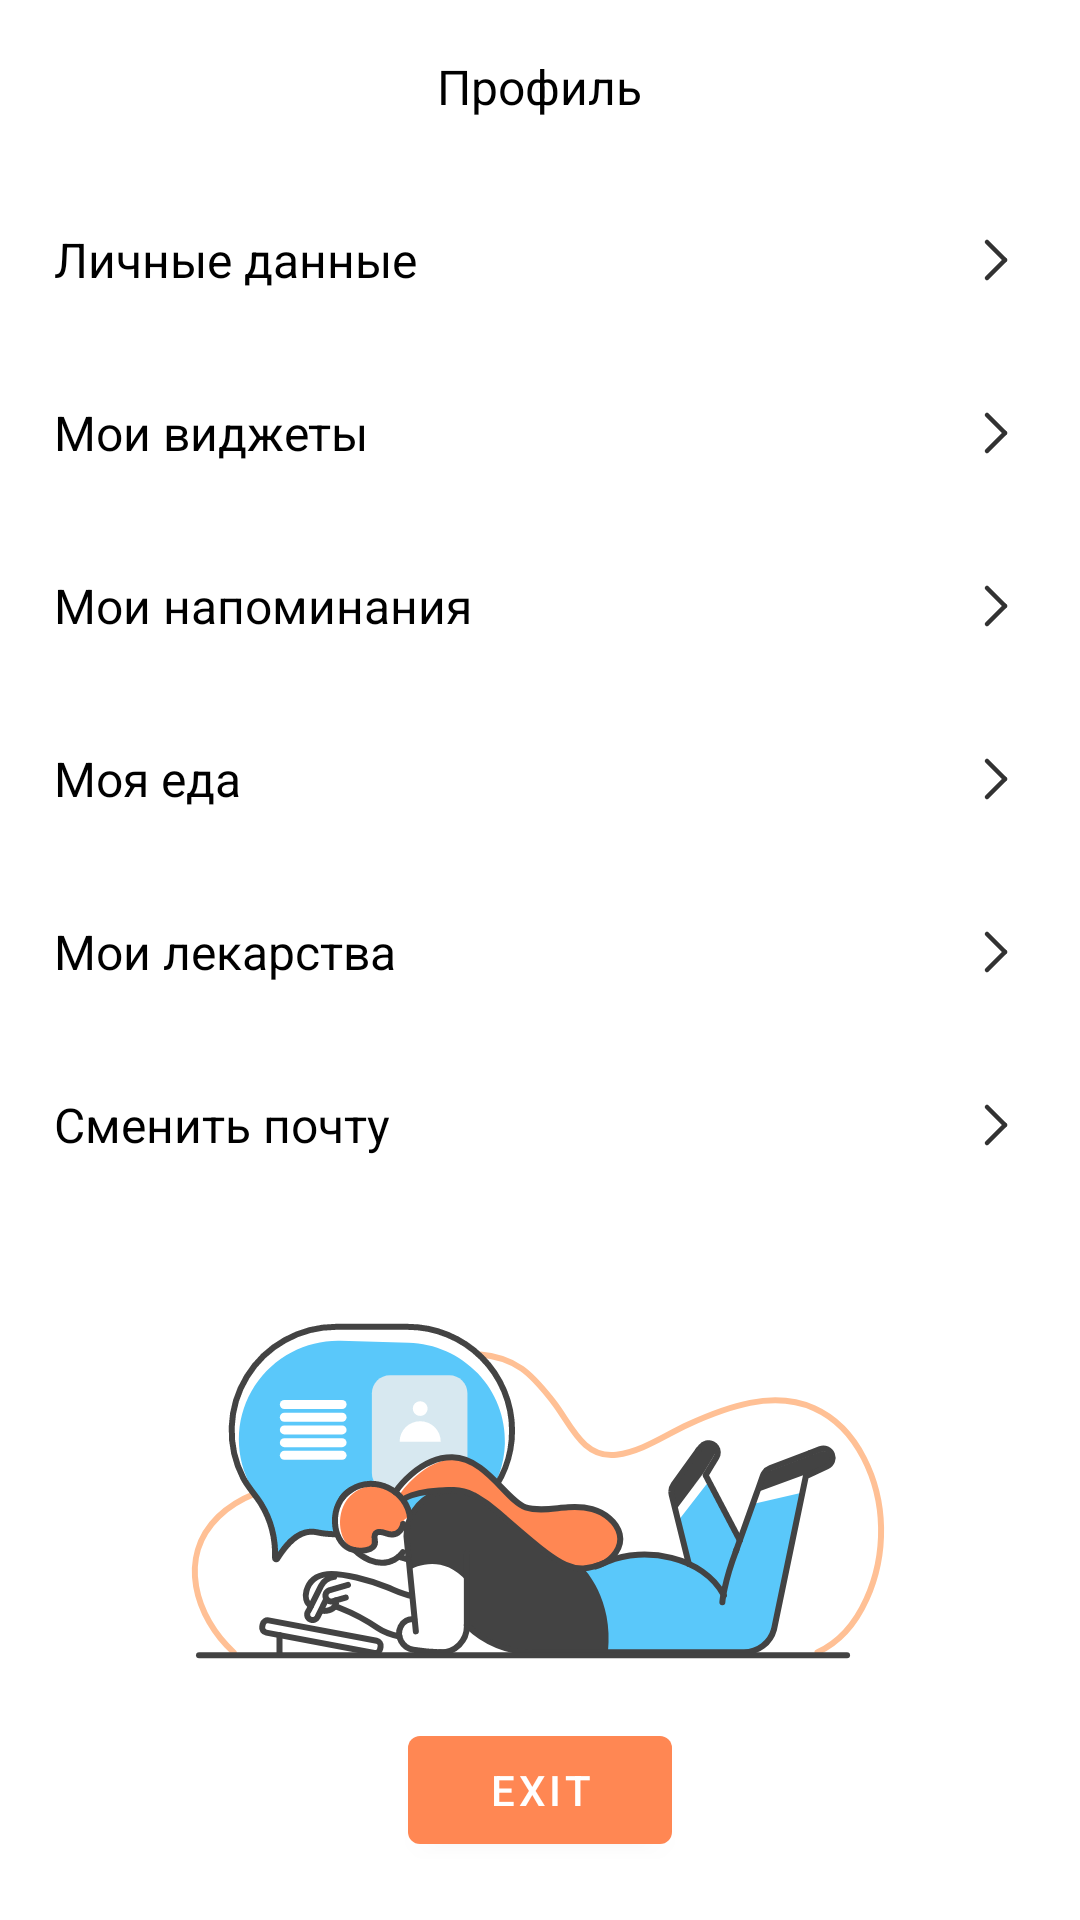

Screen size 1080*1920. Icon name, then its center in pixels as (x,y):
arrow: (996,260), (996,433), (996,606), (996,779), (996,952), (996,1125)
